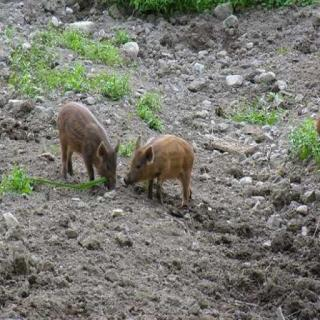Pig: (29, 58, 136, 190), (122, 112, 224, 226)
